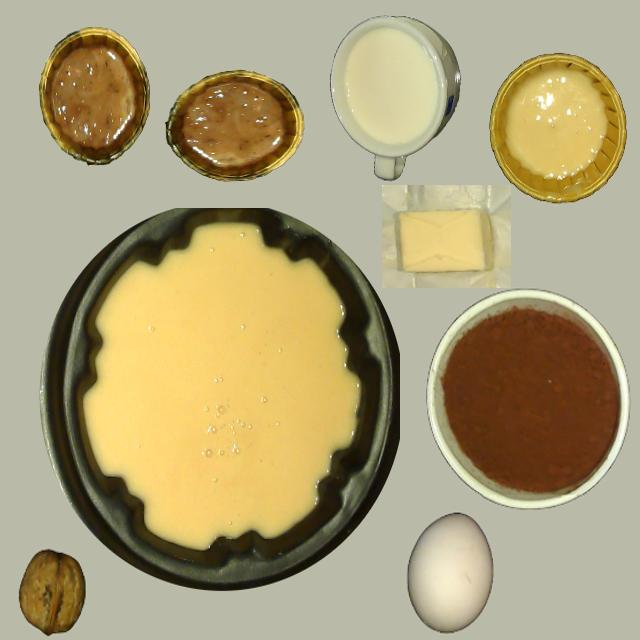Cocoa: (425, 291, 627, 509)
Milk: (346, 29, 434, 144)
Walnut: (17, 551, 85, 635)
